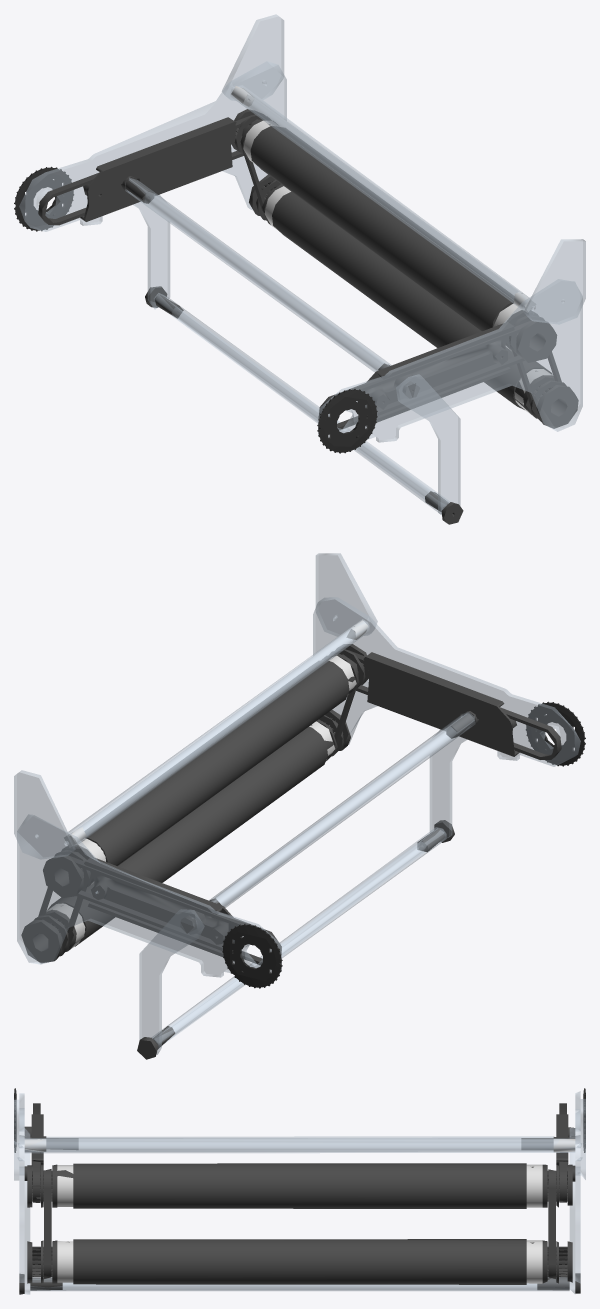
Rendered from 604-intake.glb.
The picture shows the model from 3 angles, top to bottom: view 1: azimuth 30°, elevation 25°; view 2: azimuth 150°, elevation 25°; view 3: azimuth 270°, elevation 25°; orthographic projection. The views are drawn at different scales.
Parts seen in each view (by area): view 1: Anti Ball Pressure Cross Tube, Short Intake Belt, 36t Aluminum Sprocket (#25, SplineXL Bore), Rigid Cross Tube Plug; view 2: Anti Ball Pressure Cross Tube, Short Intake Belt, 36t Aluminum Sprocket (#25, SplineXL Bore), Rigid Cross Tube Plug; view 3: Short Intake Belt, Anti Ball Pressure Cross Tube, Rigid Cross Tube Plug, 36t Aluminum Sprocket (#25, SplineXL Bore).
Part boxes in pixels (x1,y1,x2,y2): Anti Ball Pressure Cross Tube: (19,14,585,514); Short Intake Belt: (38,109,578,524); 36t Aluminum Sprocket (#25, SplineXL Bore): (14,166,377,453); Rigid Cross Tube Plug: (231,86,552,415); Anti Ball Pressure Cross Tube: (14,553,580,1054); Short Intake Belt: (21,644,561,1059); 36t Aluminum Sprocket (#25, SplineXL Bore): (222,701,585,988); Rigid Cross Tube Plug: (46,620,368,949); Short Intake Belt: (19,1103,580,1294); Anti Ball Pressure Cross Tube: (14,1091,585,1294); Rigid Cross Tube Plug: (24,1139,575,1283); 36t Aluminum Sprocket (#25, SplineXL Bore): (14,1088,585,1152).
Bounding box in the file's own units: 0.3427 × 0.316 × 0.6731.
